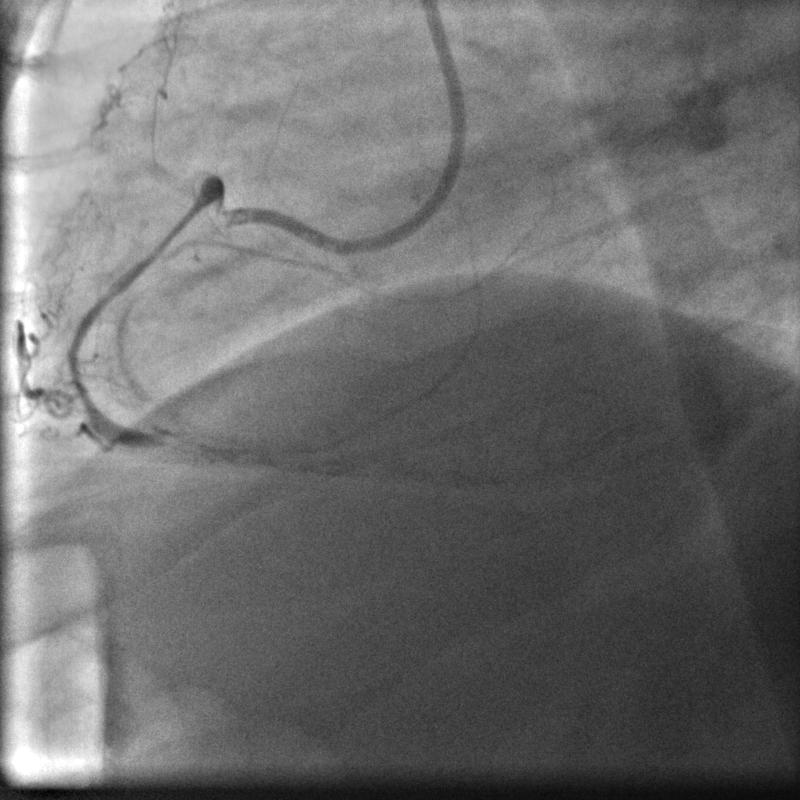Stenosis: (138, 427, 199, 457)
